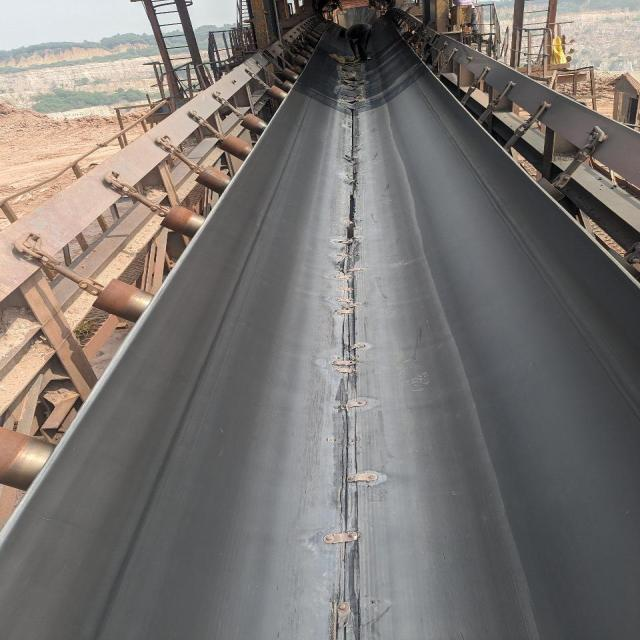Tear: (331, 100, 364, 640)
